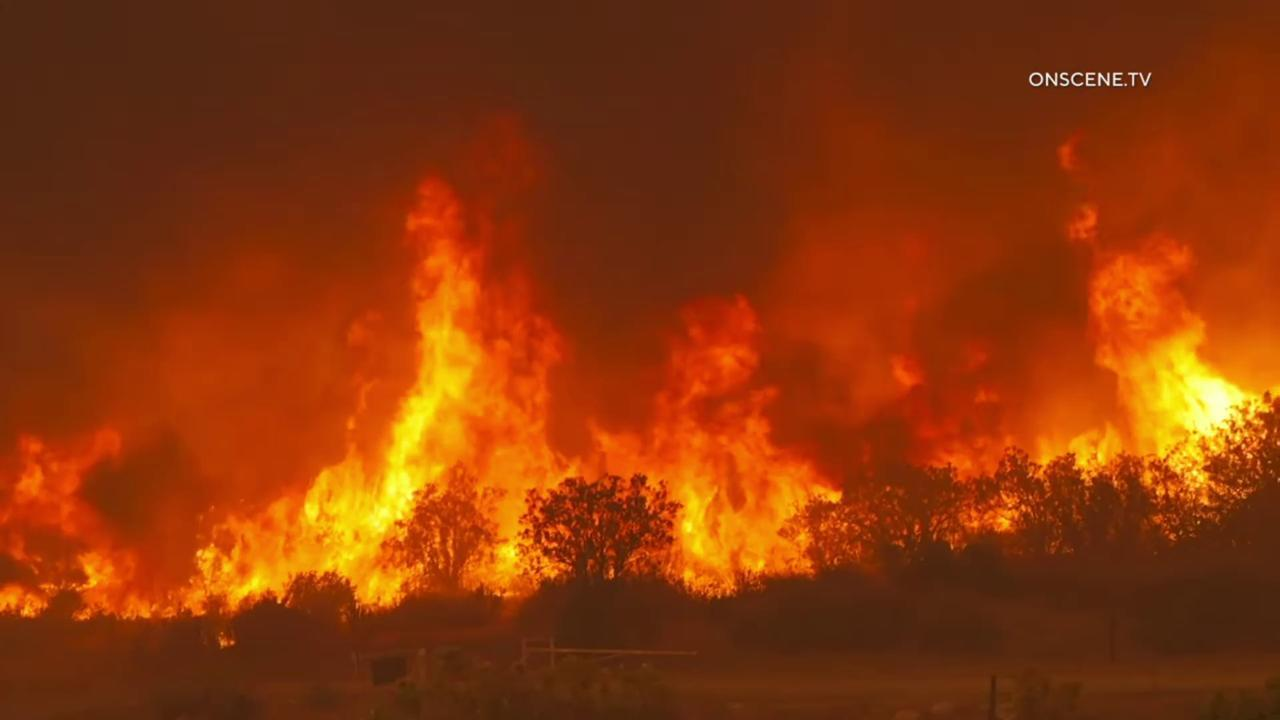fire: (0, 111, 853, 622), (893, 122, 1280, 539), (212, 630, 241, 653)
smoke: (0, 0, 1280, 720)
